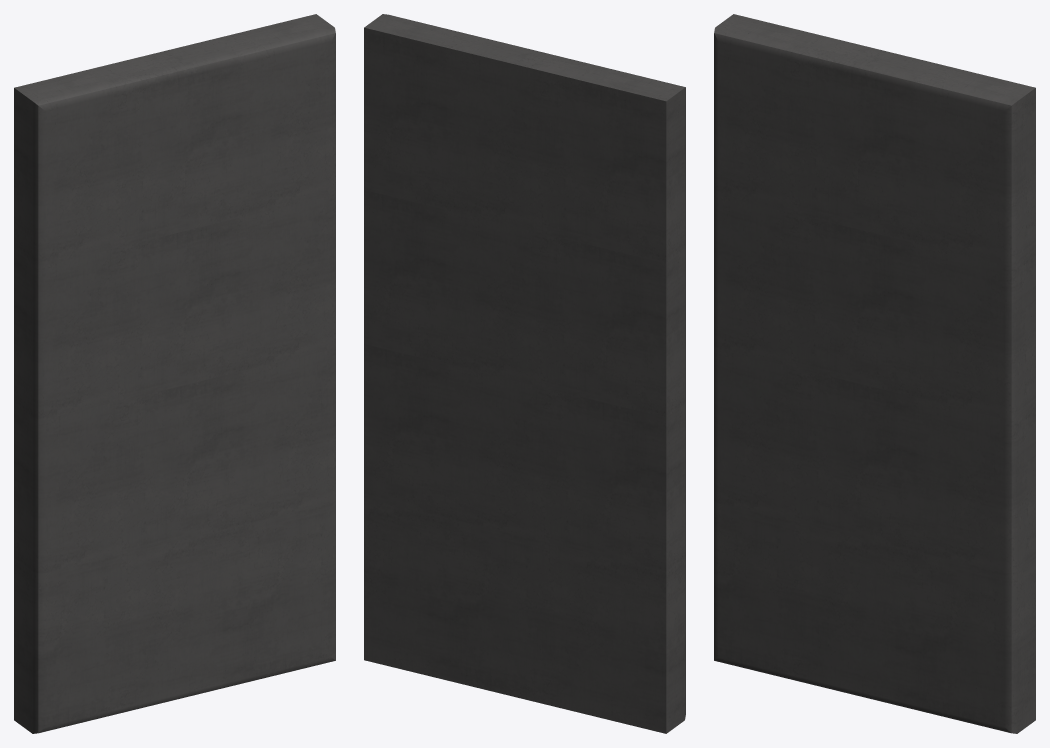
Rendered from Wall_02.fbx.
The picture shows the model from 3 angles, left to right: view 1: azimuth 30°, elevation 25°; view 2: azimuth 150°, elevation 25°; view 3: azimuth 330°, elevation 25°; orthographic projection.
Visible parts, largest first — view 1: Corridor_Wall_02; view 2: Corridor_Wall_02; view 3: Corridor_Wall_02.
Part boxes in pixels (x1,y1,x2,y2): Corridor_Wall_02: (14, 14, 335, 733); Corridor_Wall_02: (364, 14, 685, 733); Corridor_Wall_02: (714, 14, 1035, 733).
Bounding box in the file's own units: 150 × 300 × 20.
Materials: 1 (1 with a texture image).
